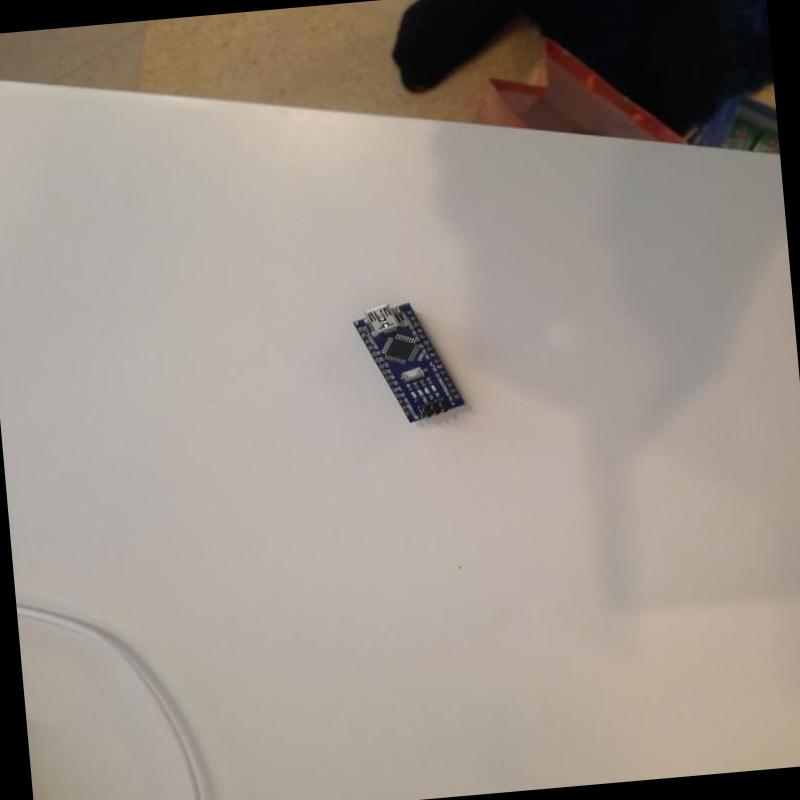Arduino_Nano: (348, 294, 472, 437)
